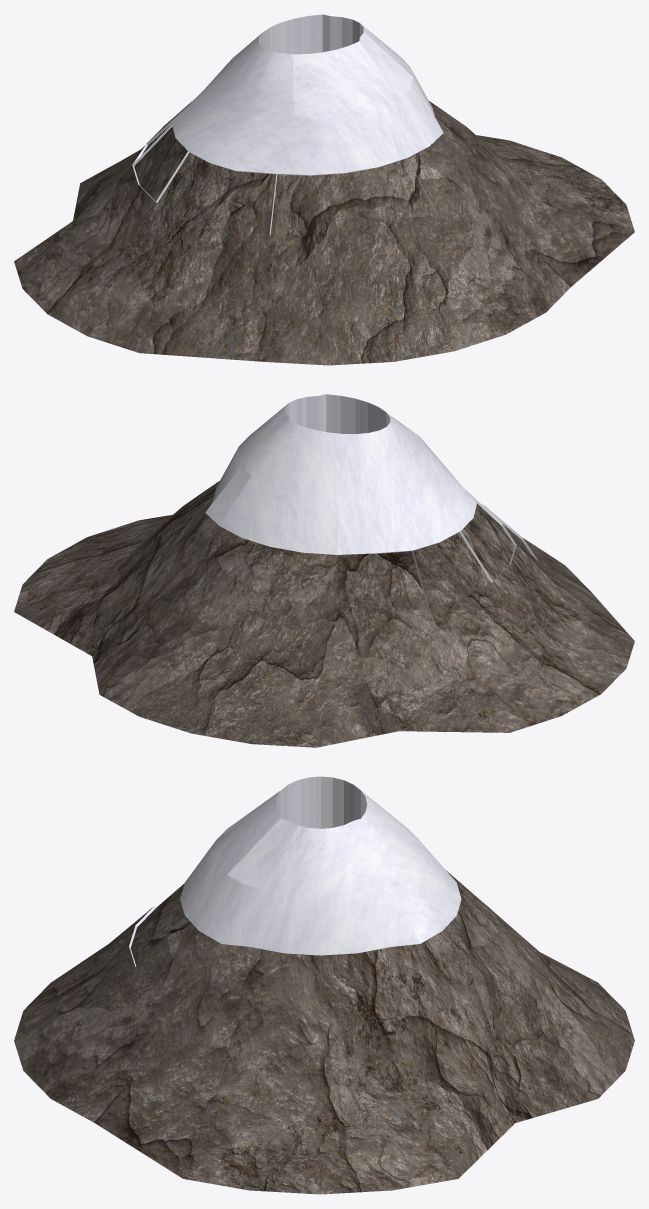
File: vocano.FBX
3 renders of one model, top to bottom at view 1: azimuth 30°, elevation 25°; view 2: azimuth 150°, elevation 25°; view 3: azimuth 270°, elevation 25°, orthographic. The views are drawn at different scales.
Parts seen in each view (by area): view 1: Cone001; view 2: Cone001; view 3: Cone001.
Boxes of the visible parts, x1,y1,x2,y2 form: Cone001: (14,14,634,365); Cone001: (14,394,634,747); Cone001: (14,776,634,1194).
Size of the model in its own units: 1.16 by 0.4305 by 1.03.
Materials: 2 (2 with a texture image).
